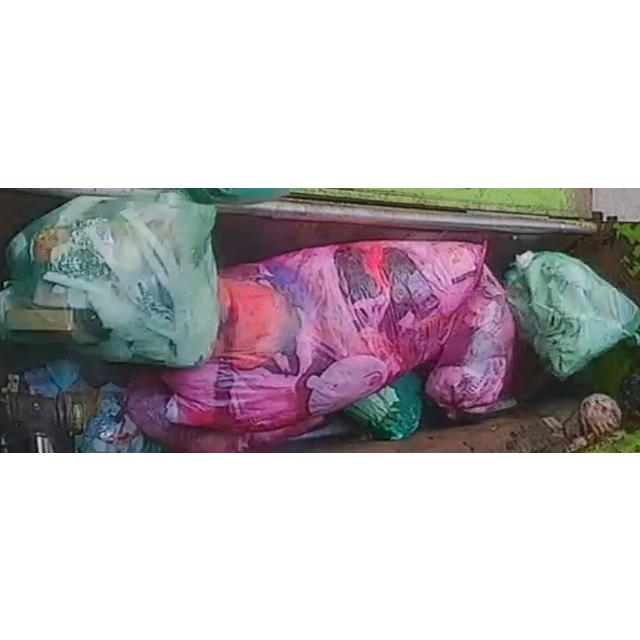general_trashbag: (0, 194, 219, 367), (505, 250, 640, 378), (345, 371, 422, 440)
other_trashbag: (164, 241, 485, 431), (425, 264, 515, 406)
